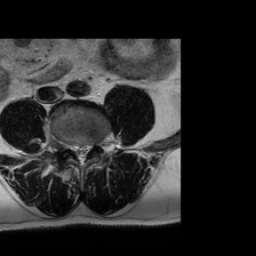CCS_normal: (78, 138, 85, 169)
LFS_severe_stenosis: (91, 136, 98, 155)
LLS_normal: (85, 138, 92, 161)
RFS_stenosis: (64, 136, 72, 156)
RLS_normal: (71, 137, 78, 161)
